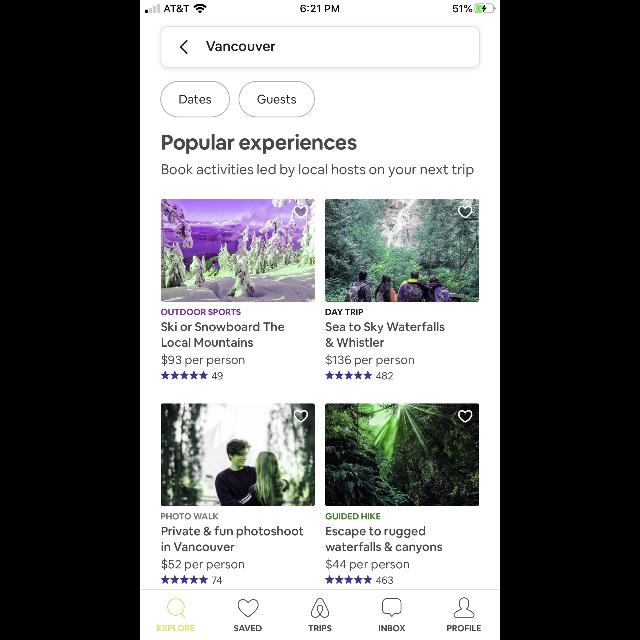icon: (454, 598, 474, 618), (382, 598, 402, 618), (326, 575, 372, 583), (162, 575, 208, 583), (326, 371, 372, 379), (162, 371, 208, 379), (238, 599, 258, 617), (167, 598, 185, 618), (294, 411, 308, 423), (458, 411, 472, 423), (294, 206, 308, 218), (458, 206, 472, 218), (180, 40, 188, 54)
image: (326, 404, 478, 506), (162, 404, 314, 506), (326, 200, 478, 302), (162, 200, 314, 302), (311, 598, 329, 618)
input: (161, 27, 479, 68)
text: (162, 134, 356, 154), (162, 164, 474, 176), (162, 526, 304, 538), (326, 542, 442, 554), (326, 322, 444, 333), (162, 322, 284, 332), (326, 526, 426, 538), (326, 354, 414, 366), (326, 559, 409, 571), (162, 559, 244, 571), (162, 354, 244, 366), (162, 338, 254, 347), (162, 542, 234, 552), (207, 41, 276, 51), (326, 338, 384, 347), (162, 309, 240, 315), (162, 513, 218, 519), (326, 513, 380, 519), (158, 625, 195, 631), (326, 309, 362, 315), (448, 625, 480, 631), (234, 625, 262, 631), (379, 625, 405, 631), (308, 625, 332, 631), (377, 576, 393, 584), (376, 372, 392, 380), (212, 576, 222, 584), (212, 372, 222, 380)
textbutton: (239, 80, 315, 118), (160, 80, 230, 118)
uppertaskbar: (140, 0, 500, 14)
